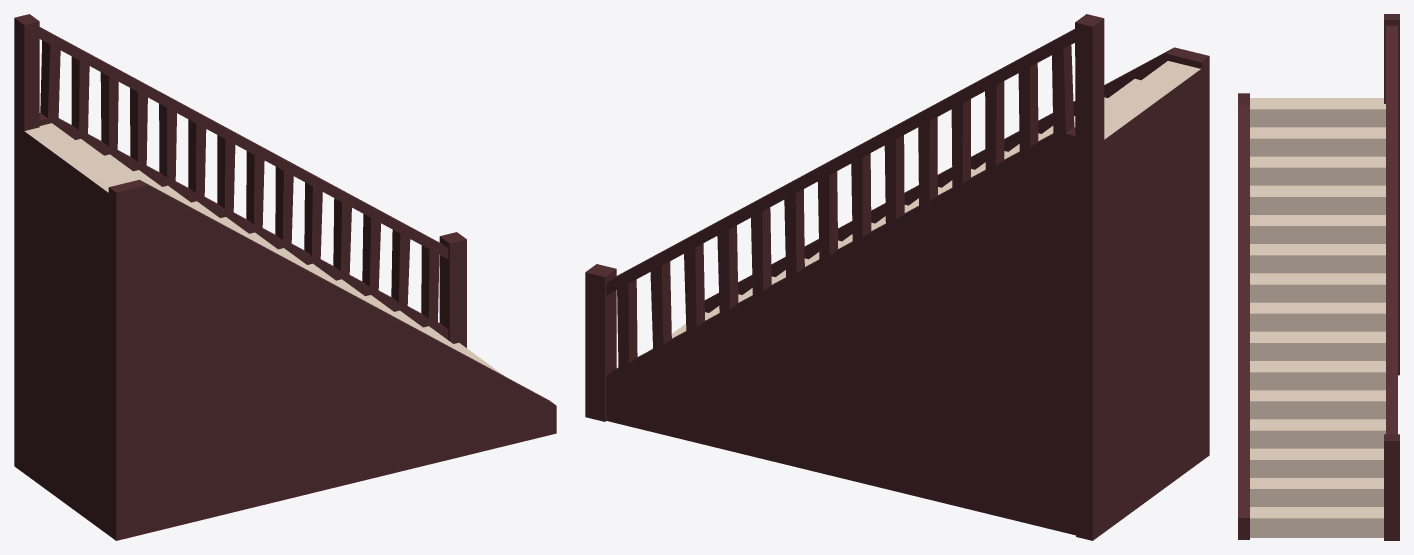
File: SM_Stairs_Entrance_1_01.fbx
The picture shows the model from 3 angles, left to right: view 1: azimuth 30°, elevation 25°; view 2: azimuth 150°, elevation 25°; view 3: azimuth 270°, elevation 25°; orthographic projection. The views are drawn at different scales.
Visible parts, largest first — view 1: SM_Stairs_Entrance_1_01; view 2: SM_Stairs_Entrance_1_01; view 3: SM_Stairs_Entrance_1_01.
Boxes of the visible parts, x1=… form: SM_Stairs_Entrance_1_01: x1=14, y1=14, x2=556, y2=540; SM_Stairs_Entrance_1_01: x1=585, y1=14, x2=1209, y2=540; SM_Stairs_Entrance_1_01: x1=1238, y1=14, x2=1399, y2=540.
Bounding box in the file's own units: 400 × 387 × 160.
